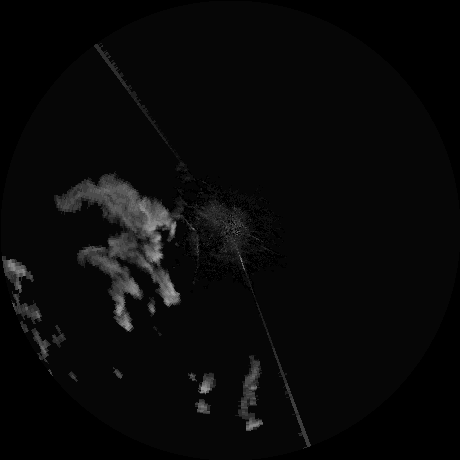frontgust: (179, 216, 201, 262)
